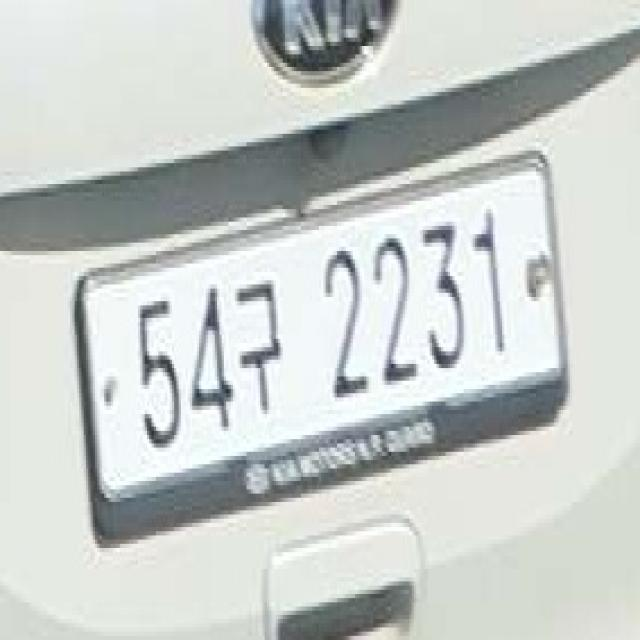1: (475, 200, 516, 356)
2: (314, 222, 376, 406), (369, 214, 423, 394)
3: (423, 201, 475, 376)
4: (181, 255, 240, 456)
5: (124, 272, 192, 468)
gu: (228, 255, 290, 431)
license_plate: (63, 151, 570, 552)
